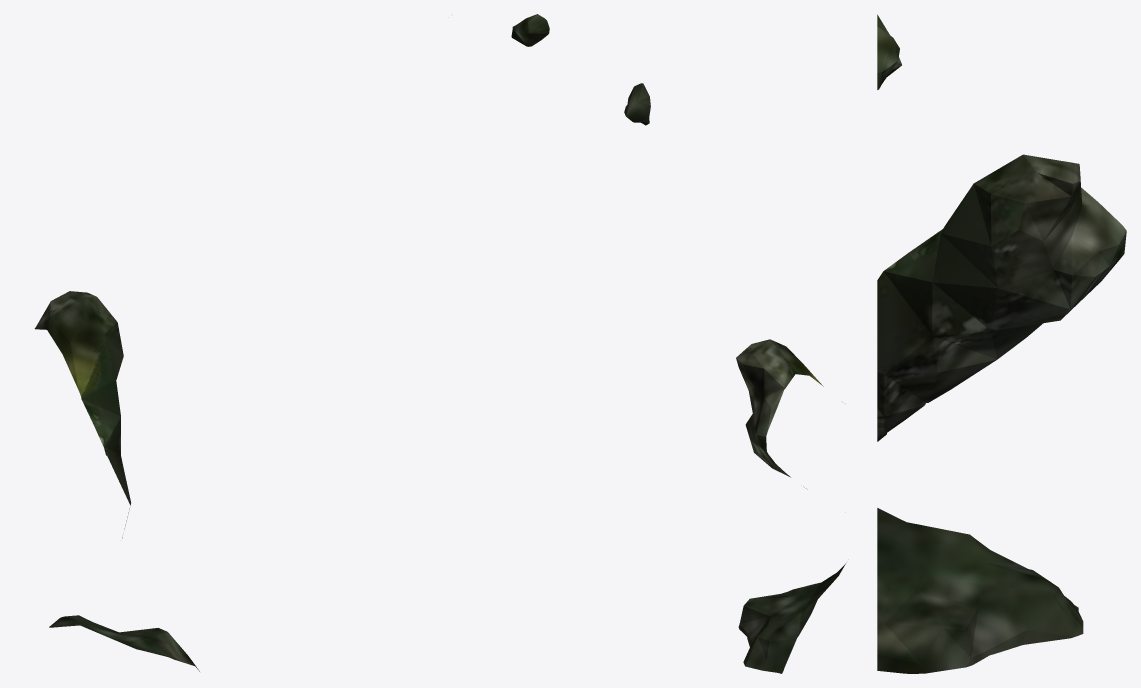
3 renders of one model, left to right at view 1: azimuth 30°, elevation 25°; view 2: azimuth 150°, elevation 25°; view 3: azimuth 270°, elevation 25°, orthographic. The views are drawn at different scales.
Size of the model in its own units: 0.952 by 1.45 by 0.4029.
1 material, 1 textured.
